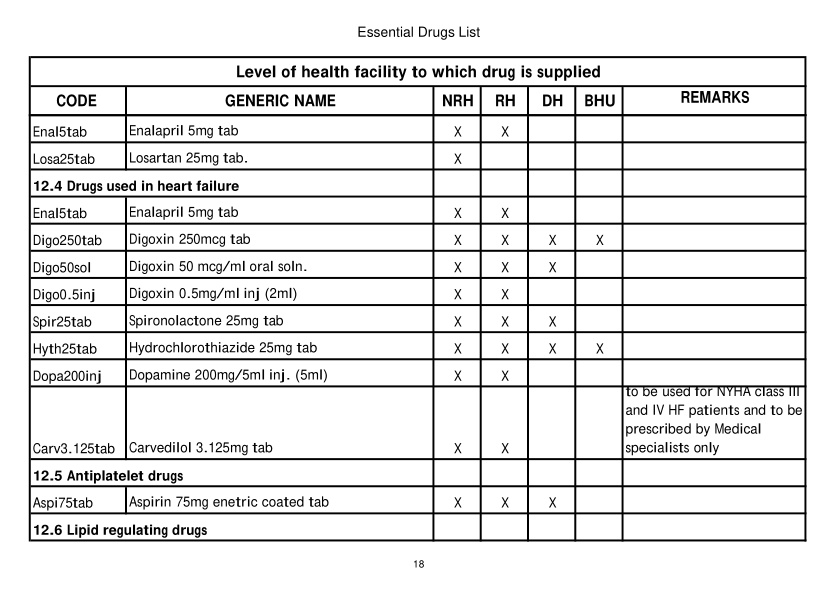merged_cells: (28, 56, 807, 542)
